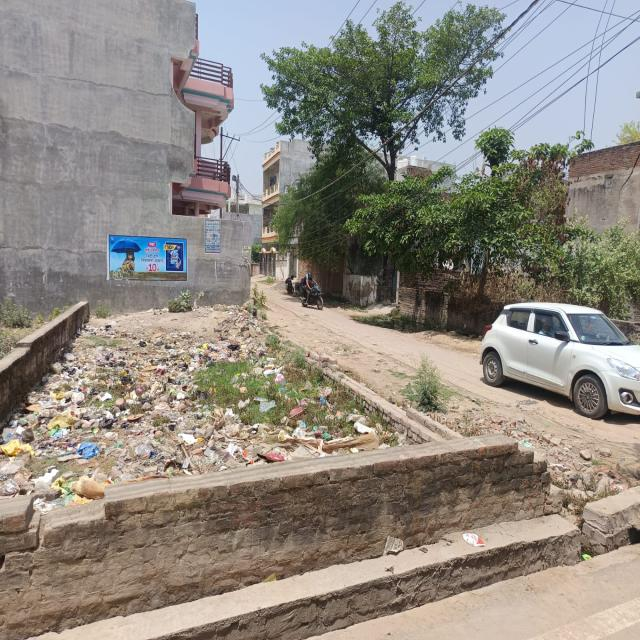Garbage: (41, 338, 338, 461)
